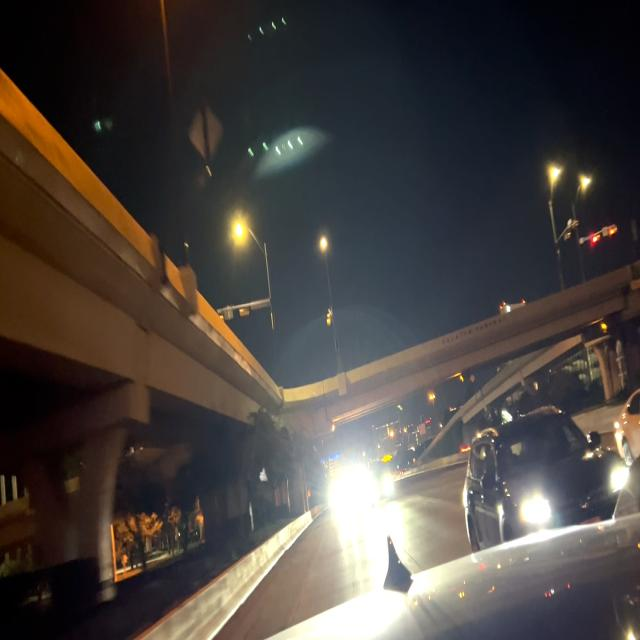back-of-sign: (189, 106, 223, 164)
